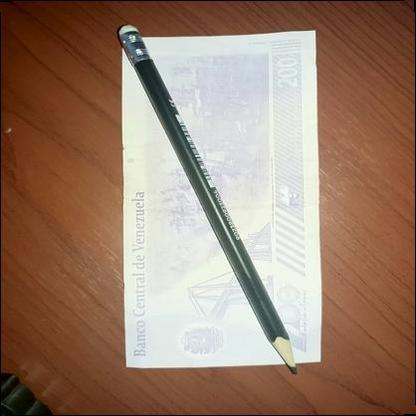vef_back: (121, 29, 321, 369)
